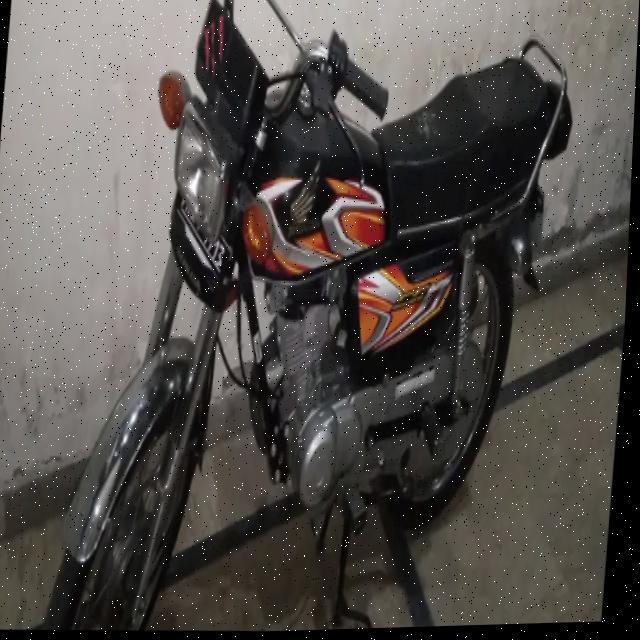Bike: (83, 0, 584, 638)
